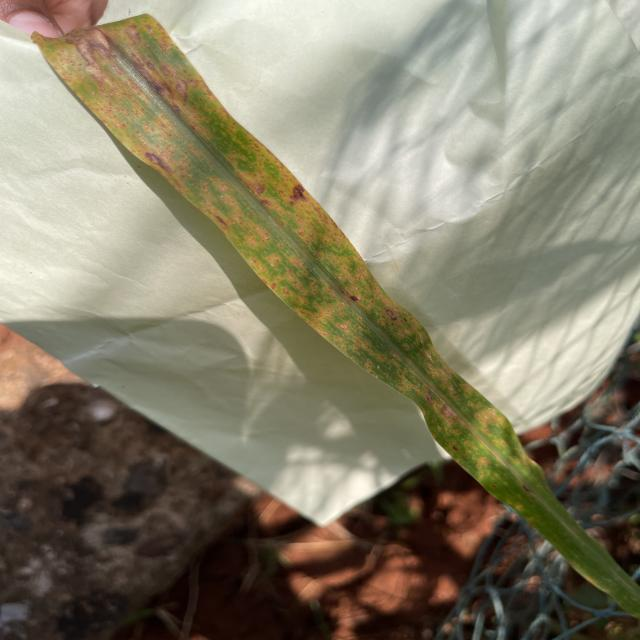millet_rust: (46, 41, 572, 418)
